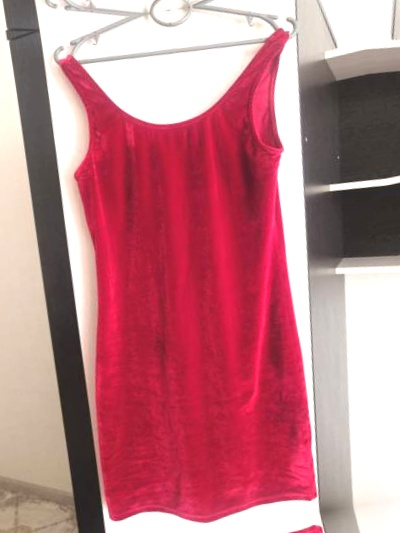Dress: (18, 3, 372, 533), (96, 512, 400, 533), (0, 0, 292, 21)
